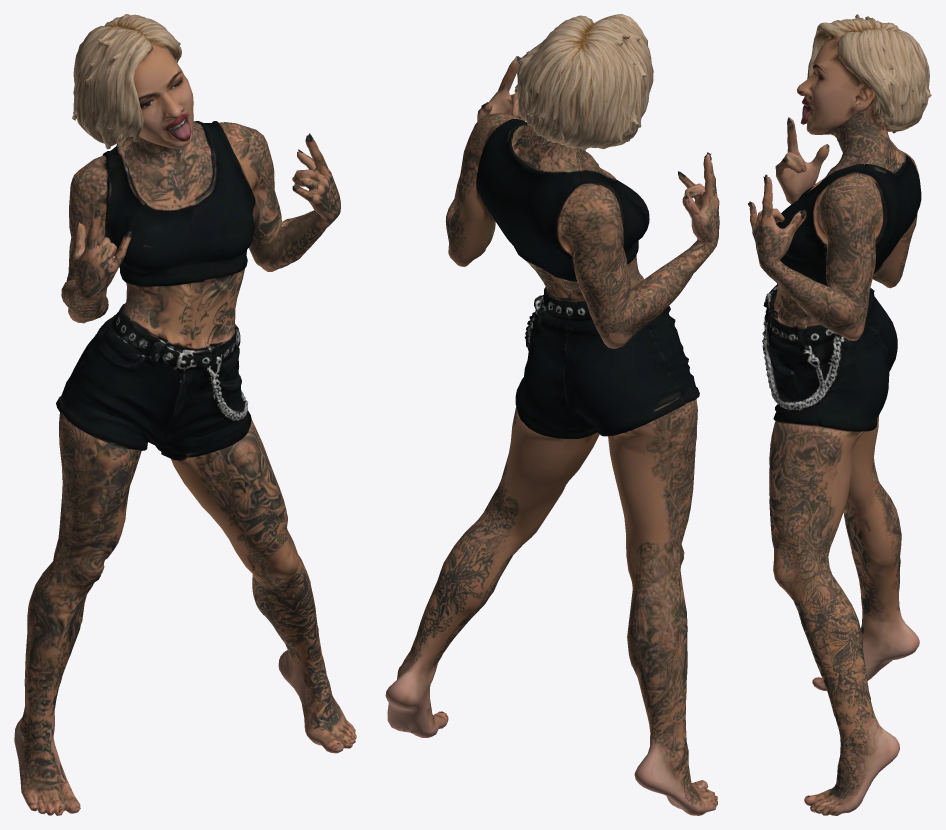
Rendered from punk_girl.glb.
3 renders of one model, left to right at view 1: azimuth 30°, elevation 25°; view 2: azimuth 150°, elevation 25°; view 3: azimuth 270°, elevation 25°, orthographic. The views are drawn at different scales.
Parts seen in each view (by area): view 1: tripo_node_ba2404e9-7b70-417d-bf58-1eb8ad78c82a; view 2: tripo_node_ba2404e9-7b70-417d-bf58-1eb8ad78c82a; view 3: tripo_node_ba2404e9-7b70-417d-bf58-1eb8ad78c82a.
Part boxes in pixels (bbox=[...]): tripo_node_ba2404e9-7b70-417d-bf58-1eb8ad78c82a: bbox=[14, 14, 356, 815]; tripo_node_ba2404e9-7b70-417d-bf58-1eb8ad78c82a: bbox=[385, 14, 719, 815]; tripo_node_ba2404e9-7b70-417d-bf58-1eb8ad78c82a: bbox=[748, 14, 931, 815].
Bounding box in the file's own units: 0.819 × 1.85 × 0.4375.
1 material, 1 textured.
